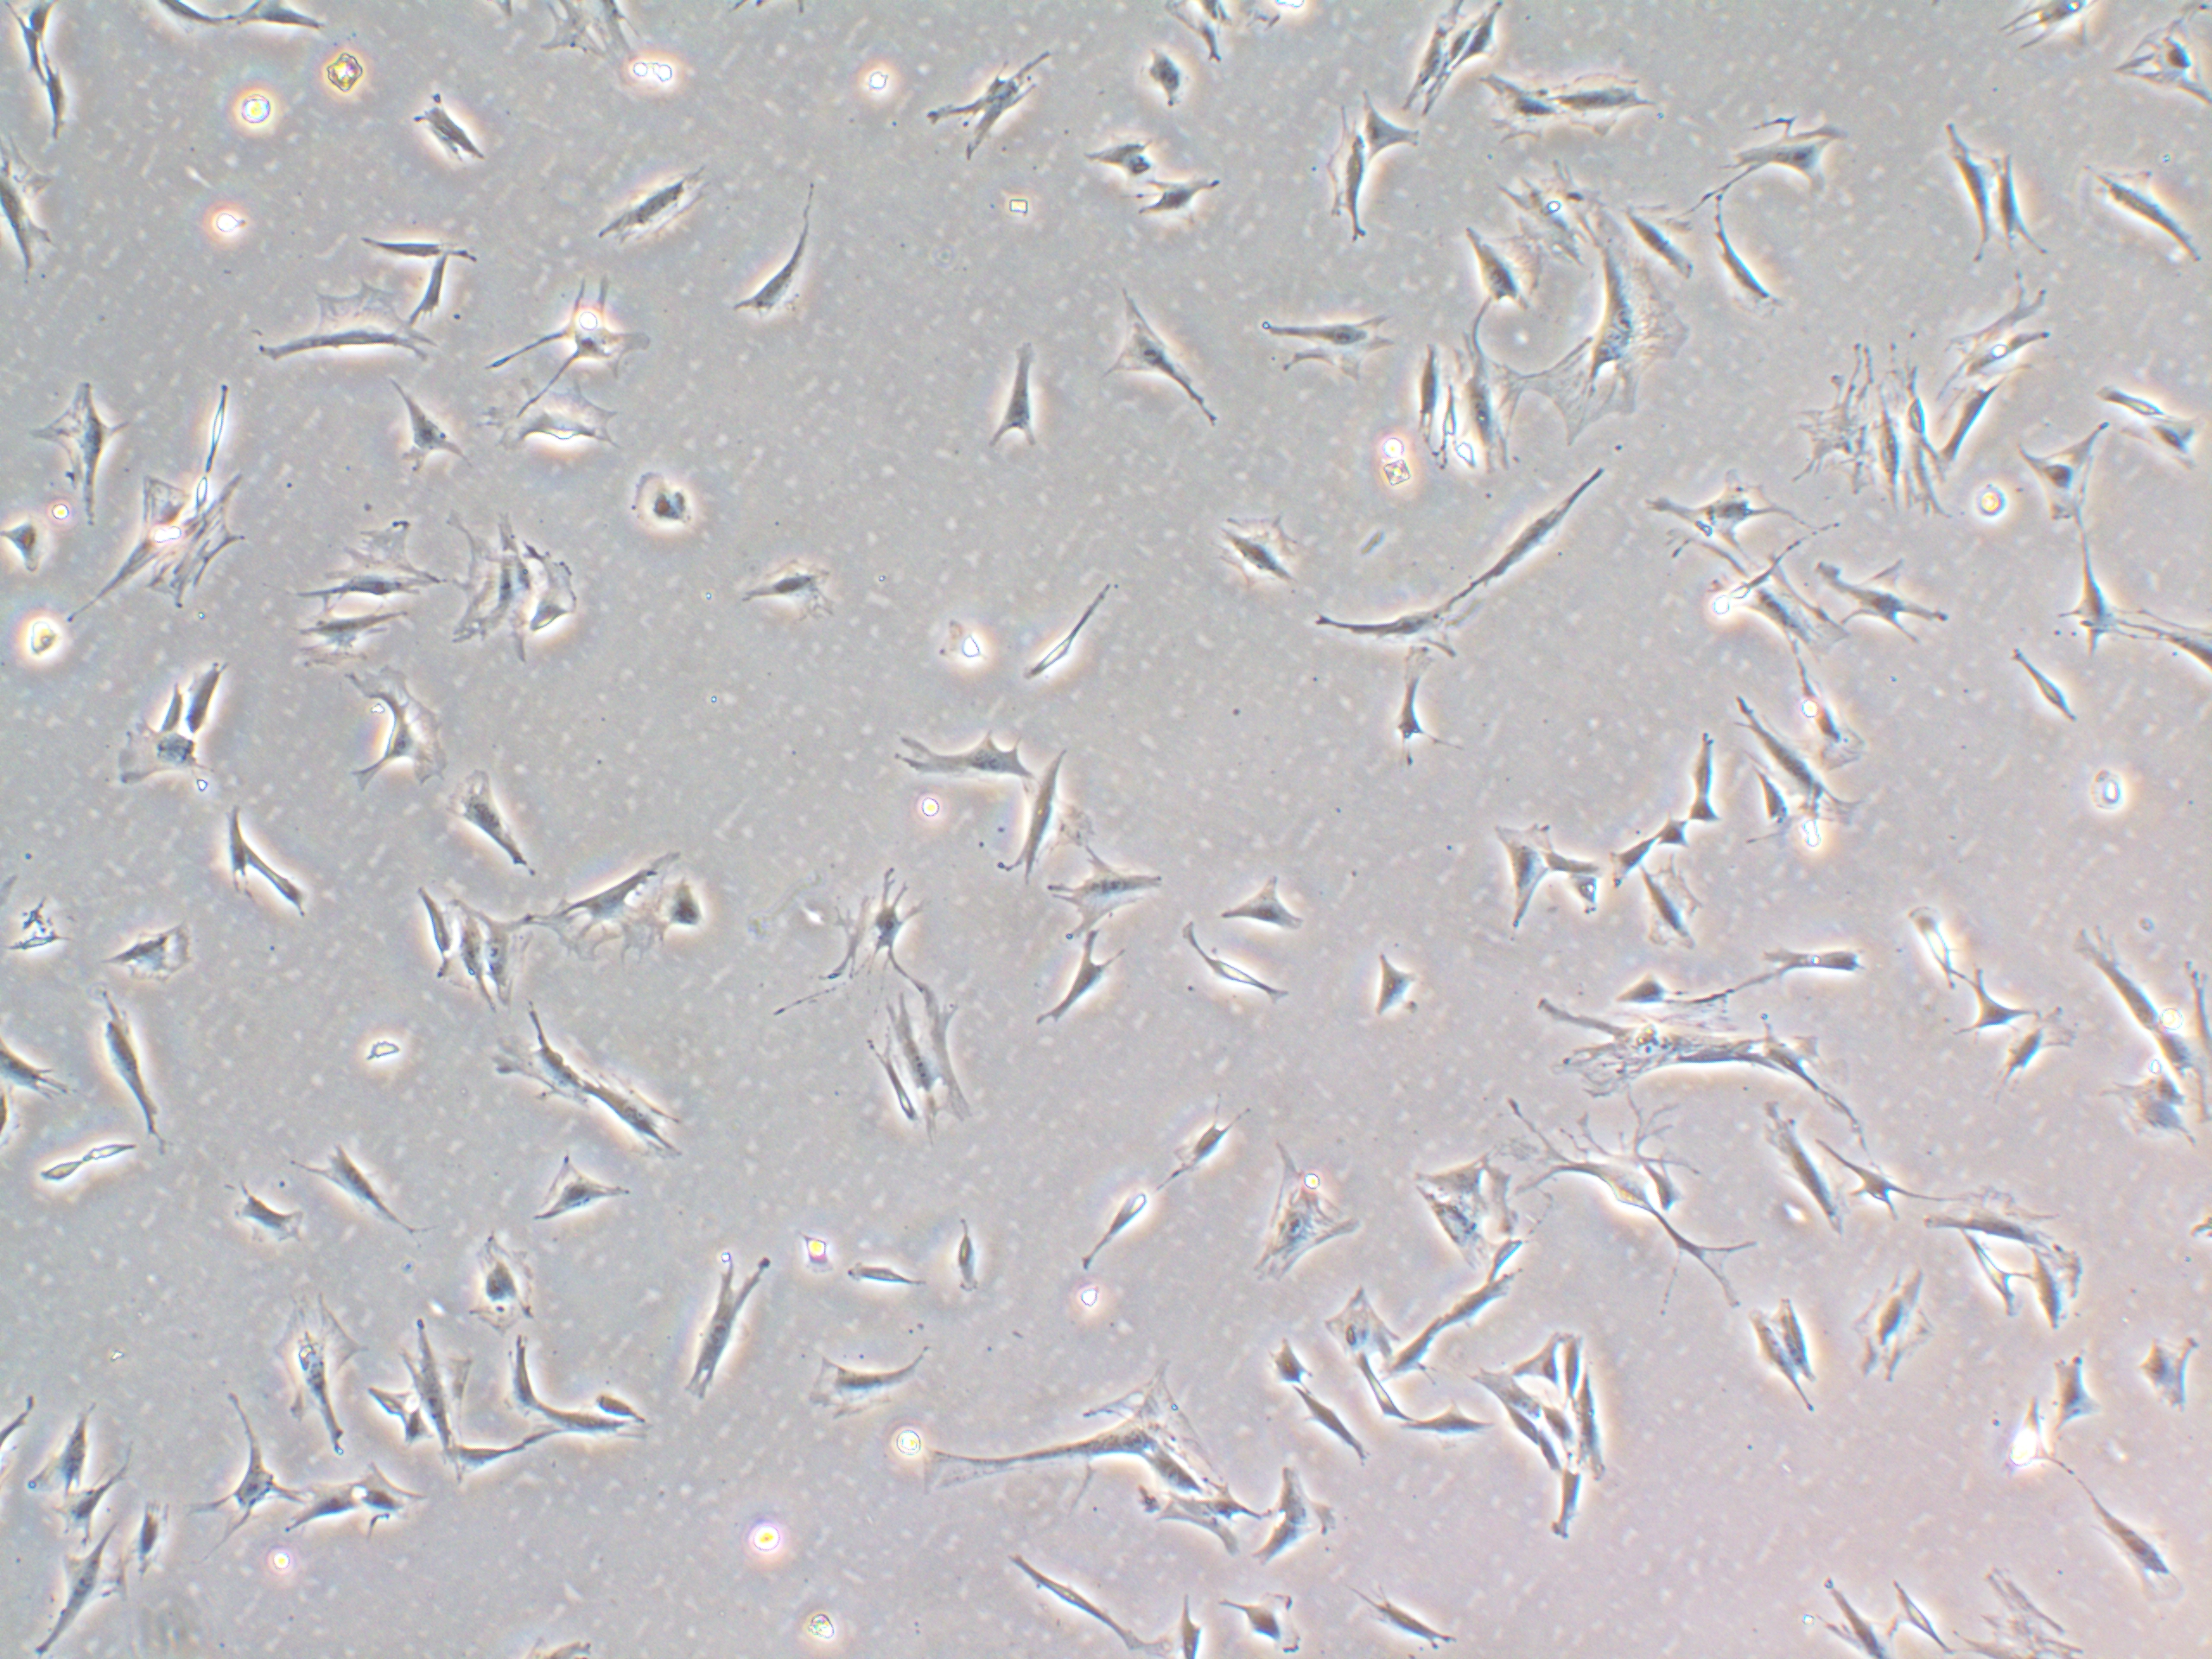Etc: (932, 1215, 1003, 1298)
polygonal: (1461, 462, 1627, 598), (1721, 688, 1867, 842), (665, 1232, 782, 1424), (1099, 274, 1226, 443), (707, 159, 831, 329), (2059, 1455, 2179, 1615), (239, 275, 428, 375), (85, 983, 188, 1159), (989, 741, 1104, 896), (777, 1333, 941, 1441), (202, 1392, 315, 1546), (2066, 148, 2200, 277), (280, 1124, 427, 1239), (437, 760, 556, 892), (1305, 584, 1500, 664), (1031, 920, 1151, 1044), (1801, 542, 1961, 634), (1028, 829, 1181, 925), (35, 1520, 143, 1656), (305, 507, 441, 615), (477, 995, 590, 1124), (1244, 1452, 1355, 1582), (1195, 498, 1318, 612), (31, 375, 124, 526), (1252, 303, 1406, 394), (1843, 1256, 1947, 1387), (582, 155, 712, 256), (2062, 915, 2170, 1037), (1148, 1093, 1264, 1204), (888, 720, 1057, 796), (1371, 645, 1461, 786), (1717, 113, 1869, 195), (1552, 61, 1669, 167), (2026, 410, 2127, 530), (585, 1066, 700, 1171), (376, 357, 469, 486), (1932, 118, 2005, 275), (1707, 206, 1801, 326), (397, 1314, 477, 1453), (38, 1452, 157, 1544), (1195, 1568, 1313, 1659), (1461, 207, 1552, 326), (1305, 98, 1376, 242), (975, 329, 1054, 460), (1735, 1310, 1824, 1424), (16, 1385, 103, 1500), (1824, 1131, 1932, 1222), (1345, 80, 1439, 181), (1486, 807, 1554, 945), (397, 89, 493, 186), (1616, 192, 1717, 284), (725, 556, 836, 640), (1566, 1366, 1635, 1499), (206, 1176, 310, 1263), (5, 44, 92, 148), (533, 1155, 641, 1239), (1282, 1387, 1376, 1483), (1137, 1486, 1249, 1567), (98, 908, 204, 992), (1749, 939, 1883, 1006), (1350, 931, 1425, 1047), (1468, 63, 1562, 155), (1216, 868, 1322, 948), (2097, 401, 2210, 476), (1359, 1577, 1461, 1659), (1648, 1223, 1759, 1298), (1932, 1182, 2060, 1246), (1991, 134, 2054, 265), (185, 796, 261, 899), (1129, 160, 1238, 232), (2001, 638, 2088, 727), (1991, 1007, 2074, 1098), (2020, 1234, 2090, 1342), (528, 1394, 651, 1453), (2048, 1338, 2114, 1446), (251, 843, 324, 936), (1068, 110, 1162, 181), (1460, 1358, 1554, 1429), (336, 223, 503, 263), (439, 1425, 542, 1490), (1770, 1283, 1829, 1391), (1956, 958, 2033, 1035), (1446, 1263, 1524, 1337), (496, 1328, 554, 1425), (1379, 1309, 1451, 1387), (401, 244, 467, 328), (1554, 1316, 1604, 1420), (1606, 826, 1669, 910), (1604, 962, 1698, 1016), (1127, 42, 1198, 112), (1385, 1408, 1508, 1448), (1552, 1452, 1594, 1558), (181, 648, 232, 735), (0, 512, 54, 592), (1505, 1326, 1568, 1392), (1258, 1330, 1312, 1394), (1655, 816, 1700, 856), (1689, 793, 1730, 836)
small-round: (625, 469, 707, 551), (2071, 755, 2137, 828), (214, 78, 287, 141), (923, 599, 988, 667), (186, 192, 256, 247), (12, 610, 64, 678), (848, 45, 906, 106), (726, 1511, 794, 1561), (787, 1223, 843, 1281), (1966, 469, 2006, 537), (350, 1032, 420, 1070), (796, 1603, 850, 1649), (1062, 1277, 1111, 1319), (883, 1427, 923, 1460)
spread: (1529, 204, 1709, 471), (1773, 322, 1954, 512), (87, 477, 256, 633), (1533, 1002, 1775, 1091), (880, 981, 1000, 1150), (1247, 1140, 1371, 1284), (430, 904, 561, 1030), (432, 516, 542, 655), (550, 857, 688, 964)
